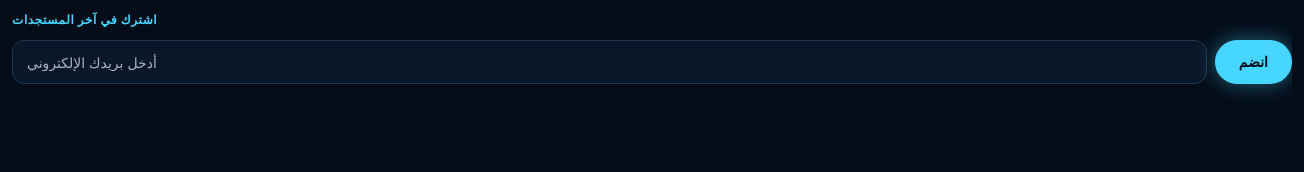
it: NewsletterForm › works in Arabic
Type "nope" into the field named "البريد الإلكتروني" at (609, 62), box [12,40,1207,84]
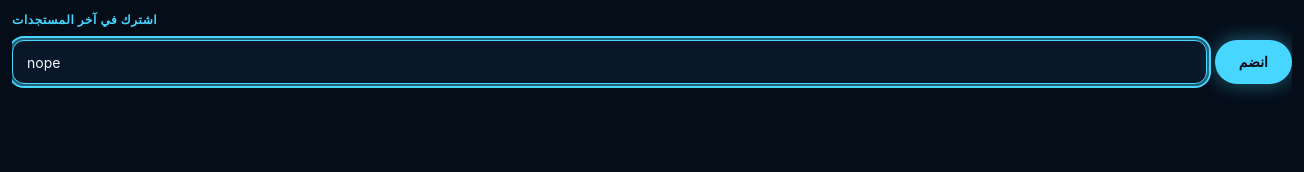
Click the button "انضم" at (1253, 62), box [1215,40,1292,84]
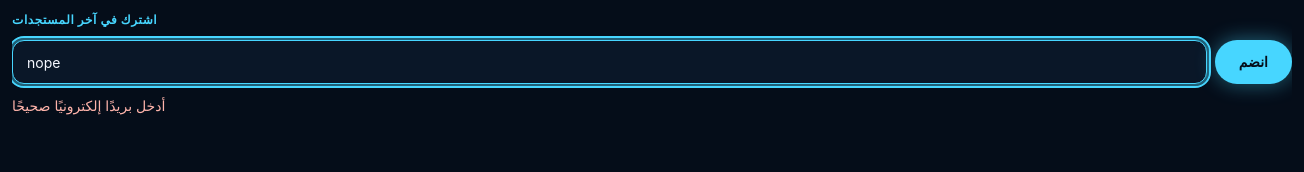
Expected: the message "أدخل بريدًا إلكترونيًا صحيحًا" is shown, [12,97,165,114]
